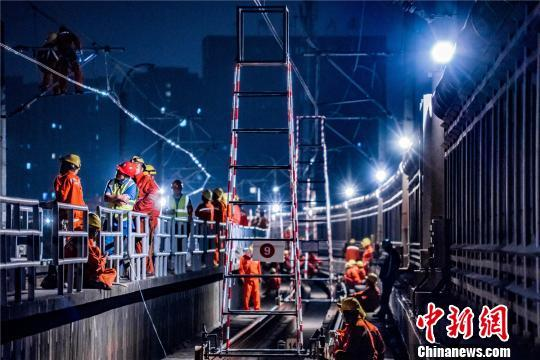helmet: (336, 295, 363, 316), (119, 163, 139, 180), (170, 179, 187, 192), (66, 155, 81, 169), (202, 187, 216, 201), (48, 33, 62, 46), (147, 163, 159, 175), (134, 157, 148, 167), (363, 239, 372, 250), (346, 261, 357, 267), (357, 261, 364, 269), (346, 261, 351, 272), (349, 239, 356, 245)
